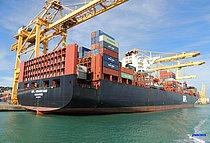Ship: (16, 29, 202, 118)
